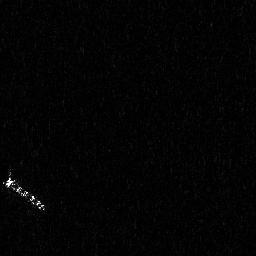ship: (1, 168, 49, 213)
